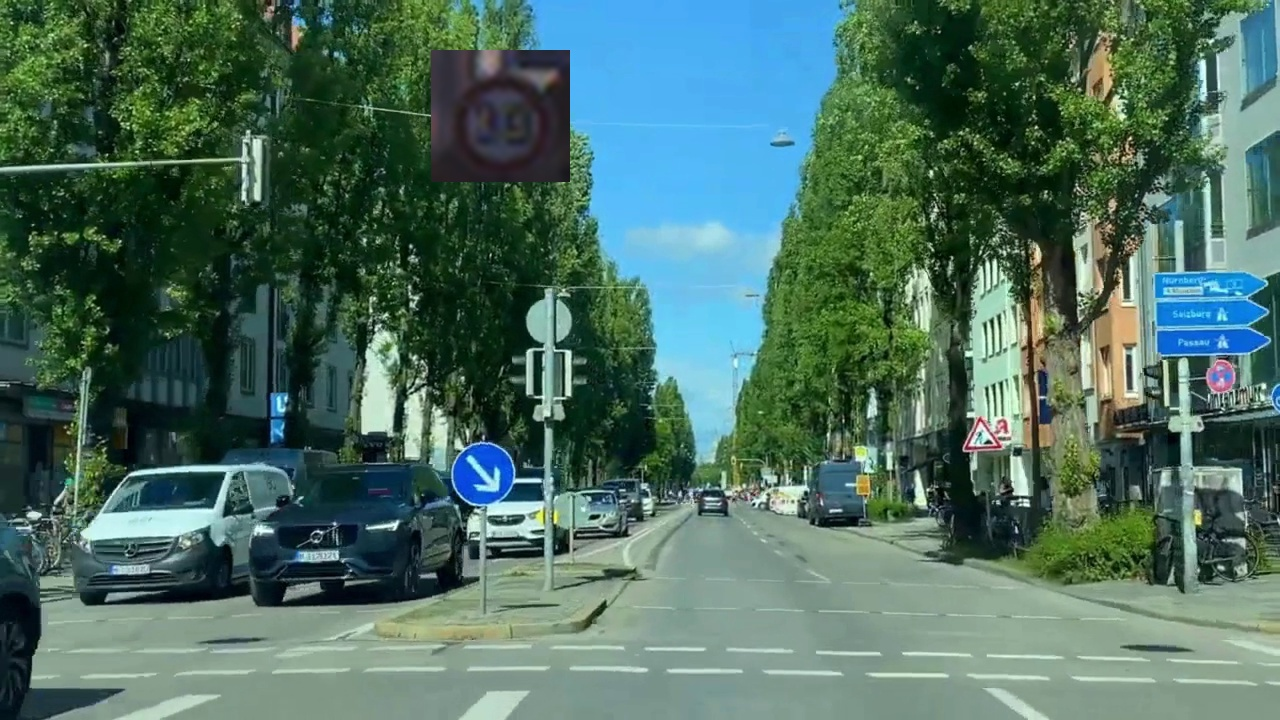Speed 30: (431, 50, 570, 182)
